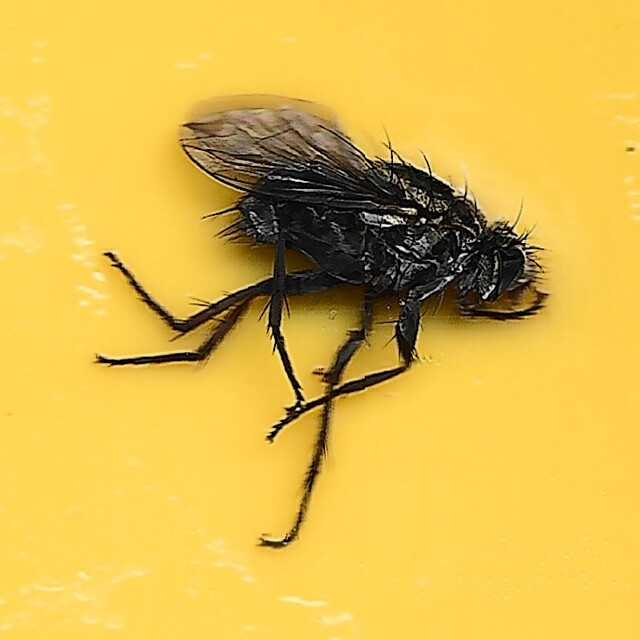Brachycera: (87, 89, 553, 551)
